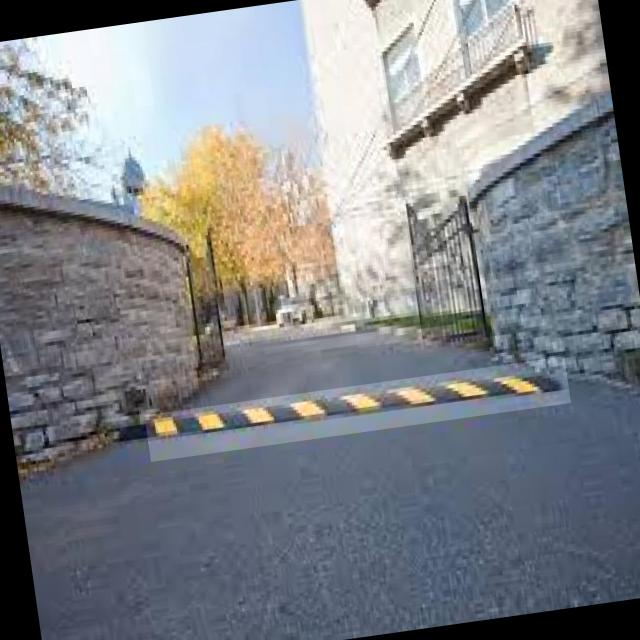bump: (145, 356, 571, 462)
